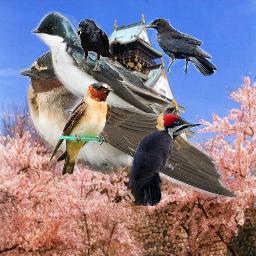Crow: (144, 18, 217, 76), (76, 19, 113, 71)
Swallow: (19, 48, 239, 199), (30, 10, 172, 119), (48, 82, 114, 176)
Woodpecker: (125, 113, 204, 206)
